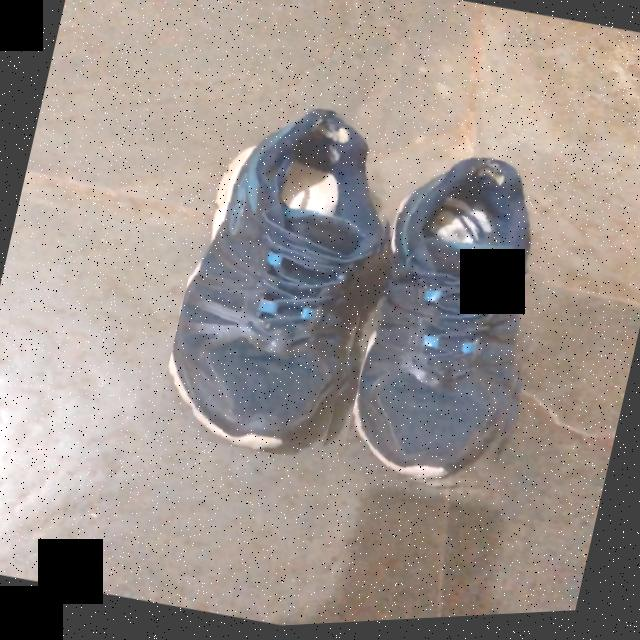shoe: (167, 115, 382, 460), (351, 162, 532, 489)
